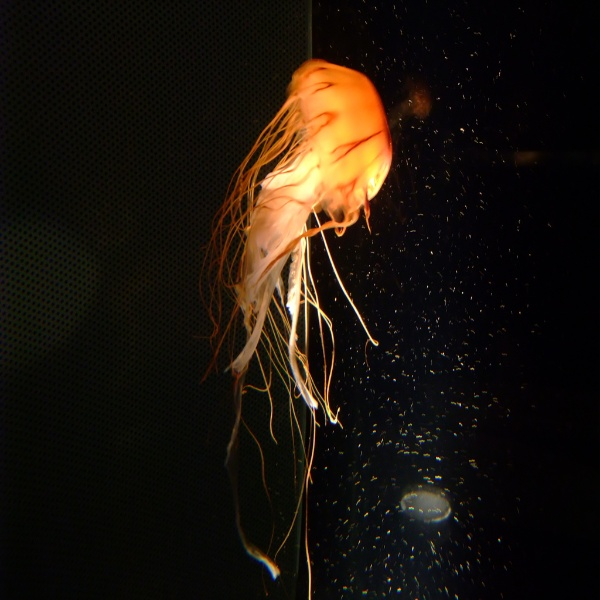Jellyfish: (191, 23, 420, 564)
